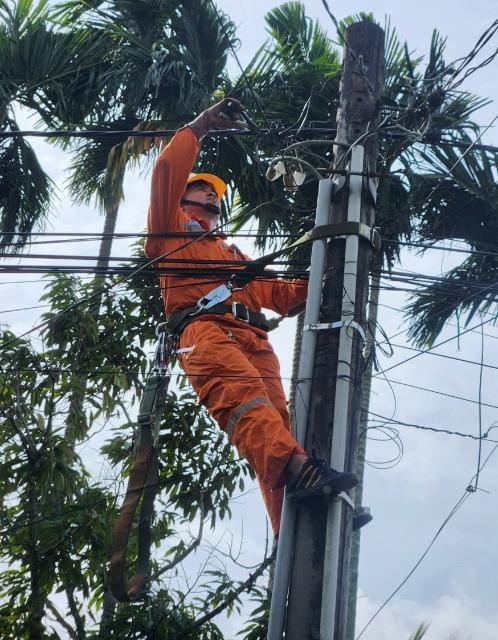harness: (154, 285, 284, 328)
helmet: (171, 160, 238, 205)
shoes: (166, 91, 253, 140), (272, 451, 358, 497)
